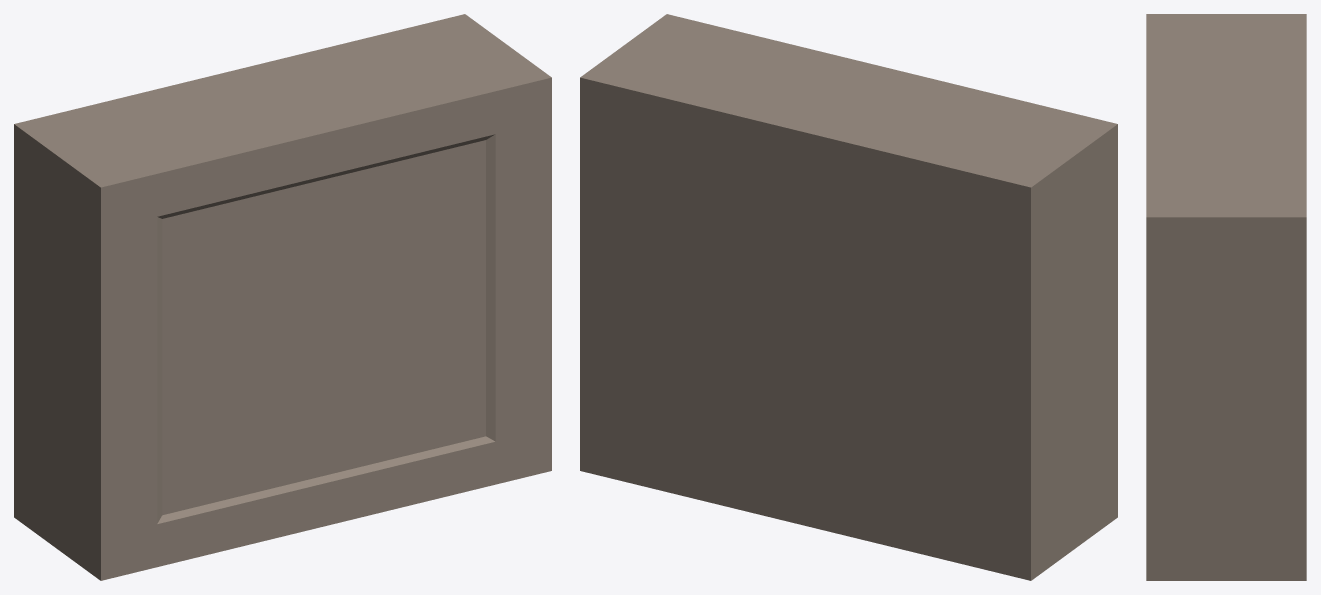
File: Wall-Cabinet-Single-Door-with-Shelves_std_001_W36in.glb
3 renders of one model, left to right at view 1: azimuth 30°, elevation 25°; view 2: azimuth 150°, elevation 25°; view 3: azimuth 270°, elevation 25°, orthographic. The views are drawn at different scales.
Visible parts, largest first — view 1: Wall-Cabinet-Single-Door-with-Shelves.std.001_W36in; view 2: Wall-Cabinet-Single-Door-with-Shelves.std.001_W36in; view 3: Wall-Cabinet-Single-Door-with-Shelves.std.001_W36in.
Part boxes in pixels (<box>): Wall-Cabinet-Single-Door-with-Shelves.std.001_W36in: <box>14,14,551,580</box>; Wall-Cabinet-Single-Door-with-Shelves.std.001_W36in: <box>580,14,1117,580</box>; Wall-Cabinet-Single-Door-with-Shelves.std.001_W36in: <box>1146,14,1306,580</box>.
Size of the model in its own units: 0.9144 by 0.762 by 0.3048.
